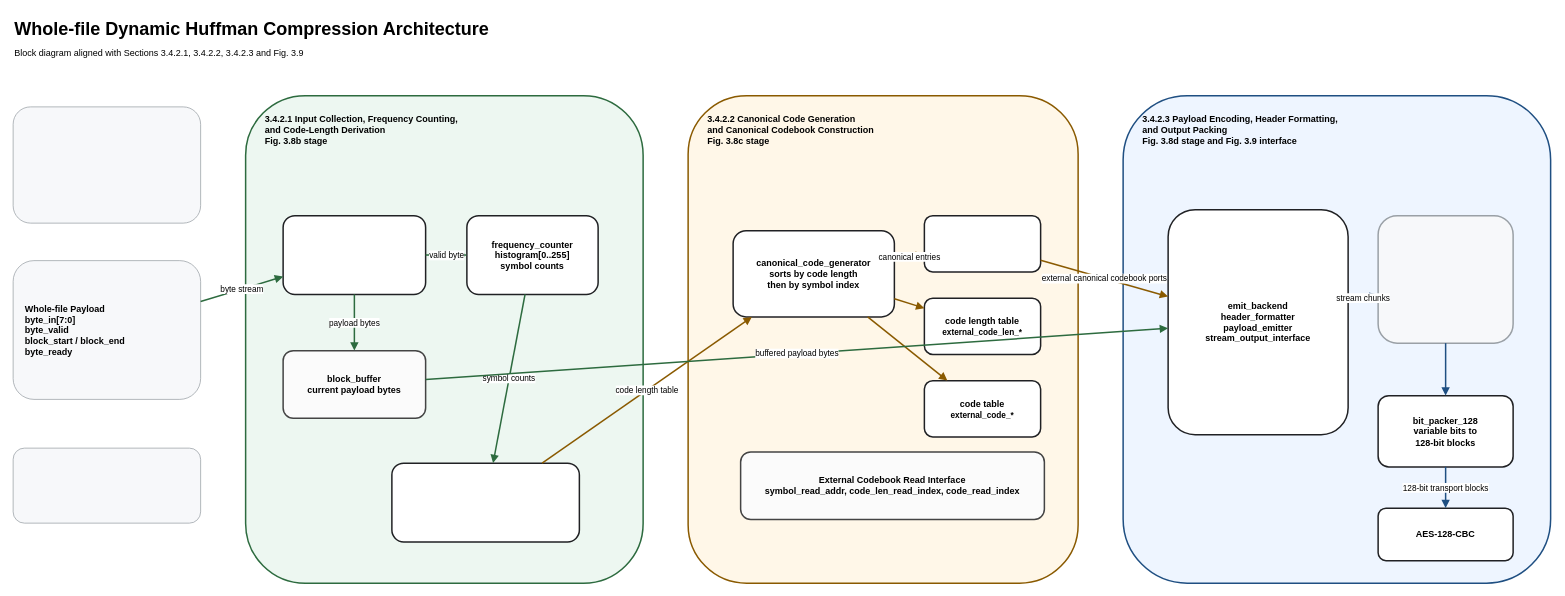
This 1565x596 diagram has some shape labels left out. Here are the shapes that lost their labels. From the top down, the centre of each, then its label:
pixel 106 164: Control Inputs clk, rst_n start_block whole_file_enable whole_file_table_valid
pixel 354 254: input_collect_unit captures valid bytes and block boundary
pixel 982 243: symbol table external_symbol_*
pixel 1445 279: Fig. 3.9 stream_data[31:0] stream_len stream_valid stream_last stream_ready
pixel 106 485: Control FSM Role schedules count/build then starts emit
pixel 485 502: huffman_builder tree construction active-symbol code lengths
